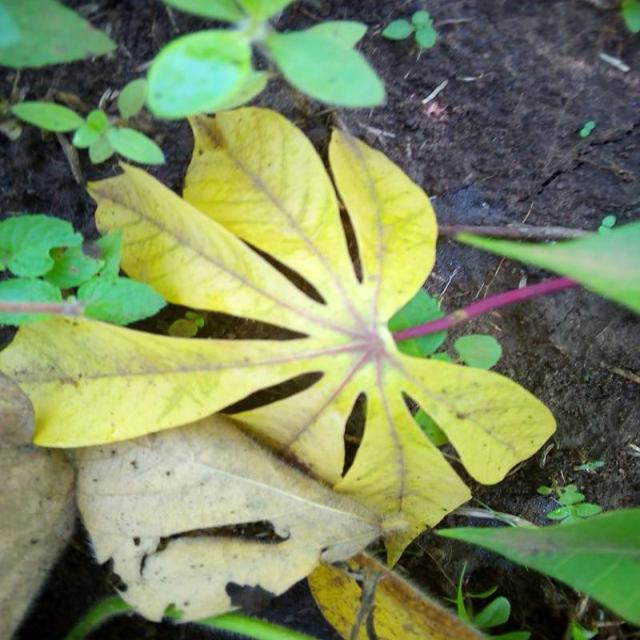cassava leaf: (1, 101, 559, 574)
